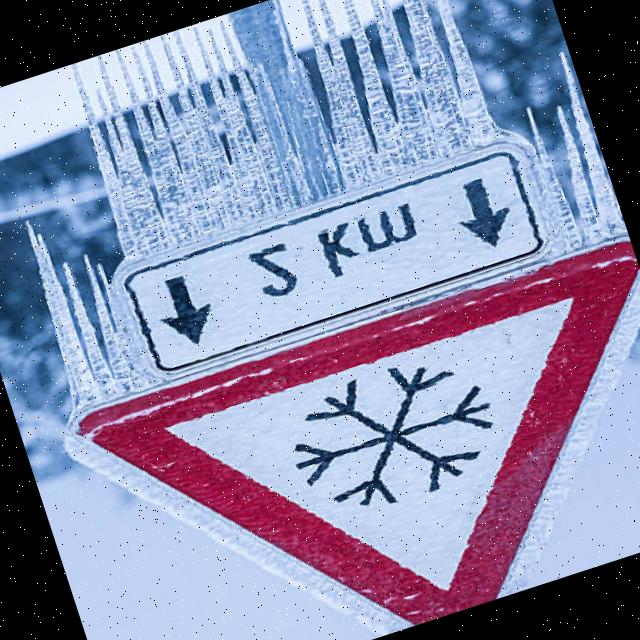snow_warning: (43, 217, 640, 640)
